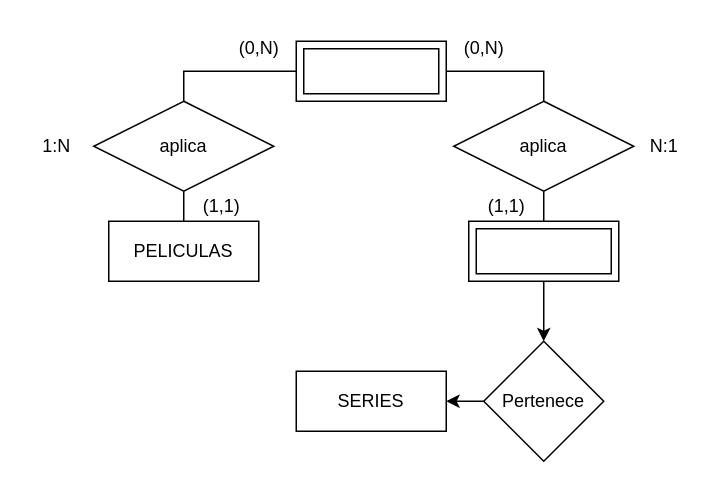
Some shapes in this 719 by 488 pixel diagram are drawn without their labels. Here are the shapes that lost their labels. From the top down, the centre of each, then its label:
the point at 370,70: registros
the point at 543,250: capitulos
